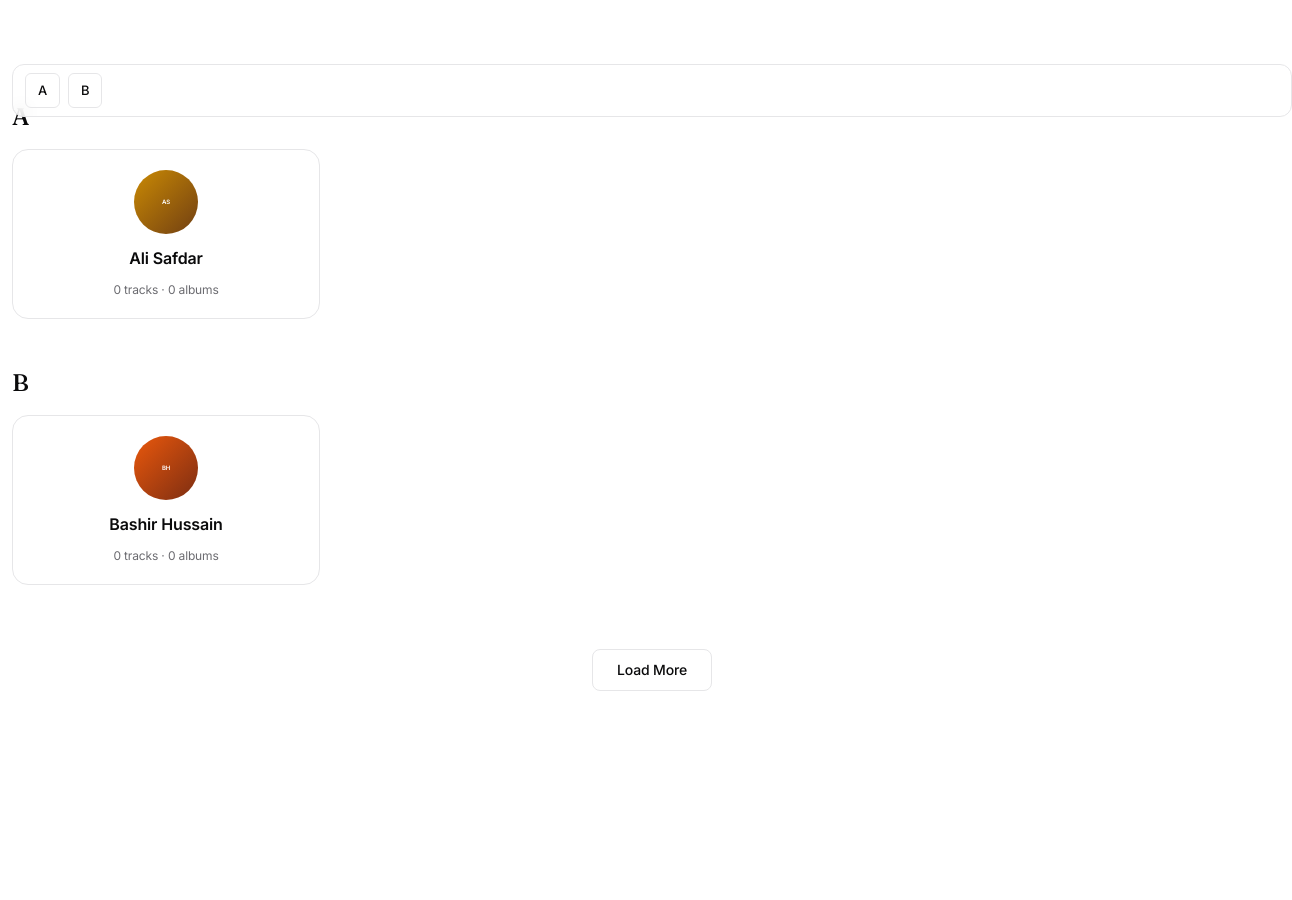
ReciterGrid › re-groups Load More entries into their letter sections
The image size is (1292, 900).
What coordinates should you click on to do the following:
click the button "Load More"
I would click on:
 (652, 670)
Its box is [592,649,712,691].
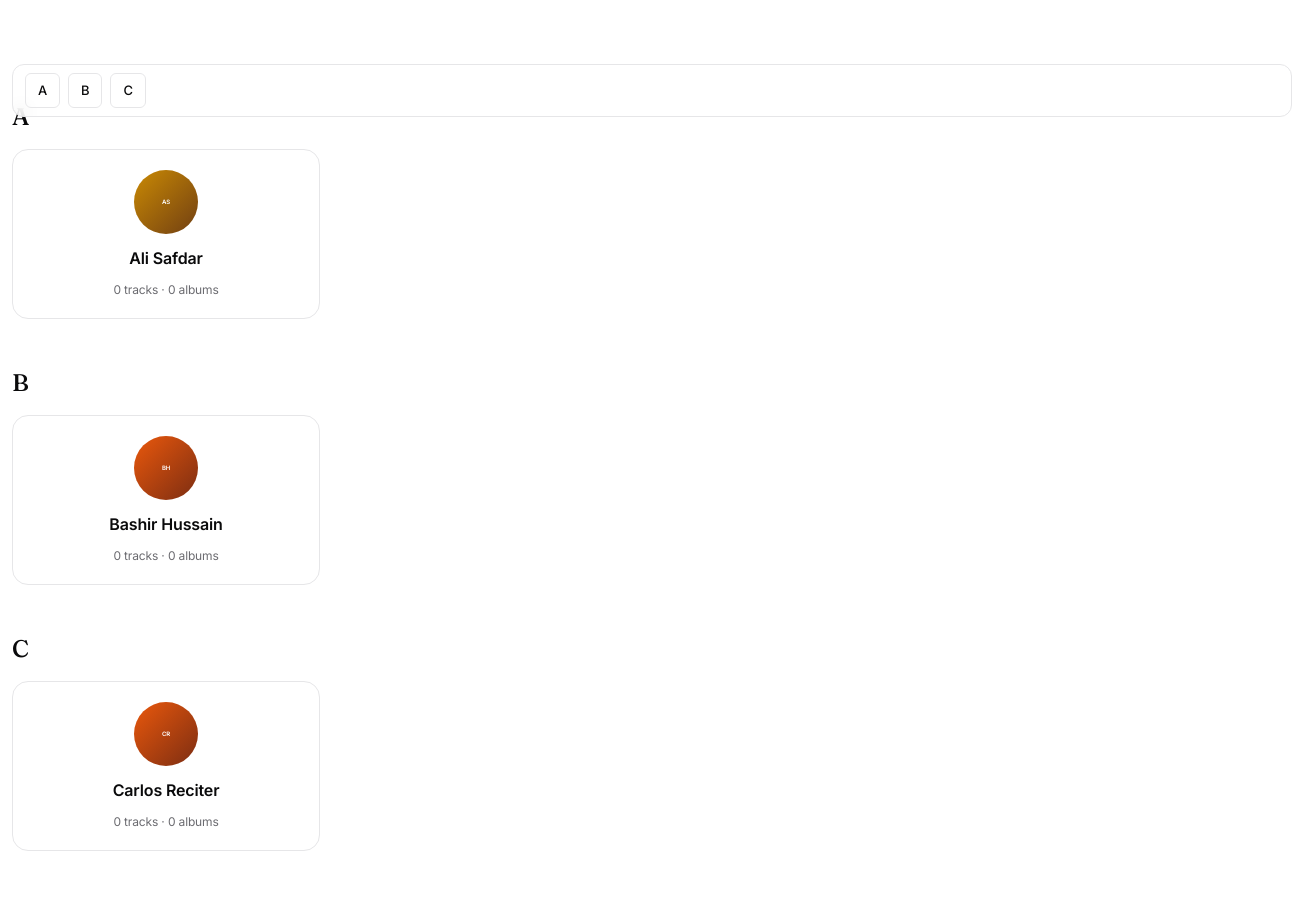
Expected: the link "C" is shown, [110,73,146,108]
Expected: the element named "reciters starting with C" shows "Carlos Reciter", [12,681,320,851]
